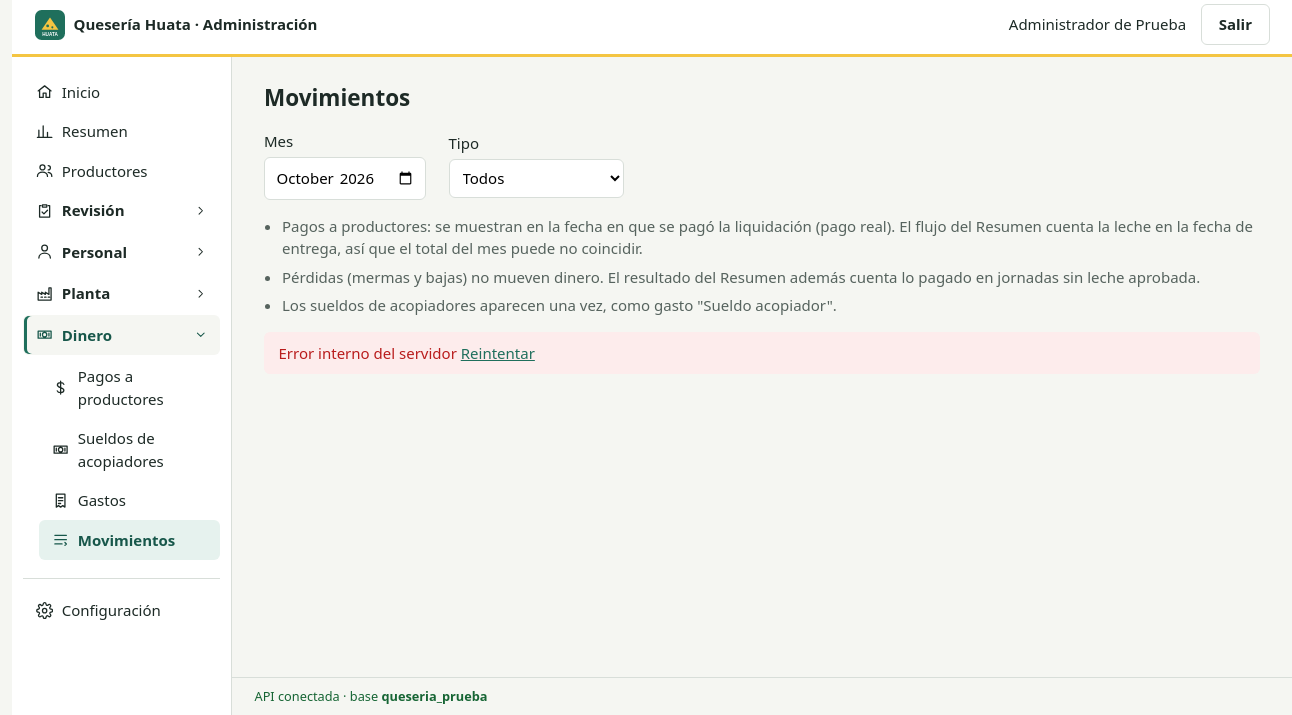
it: movimientos › si la carga falla, muestra el error y Reintentar vuelve a pedir
Check: the message shows "Error interno del servidor", box [278,343,457,363]
Click the button "Reintentar" at (498,353), box [461,342,535,364]
(page scrolled)
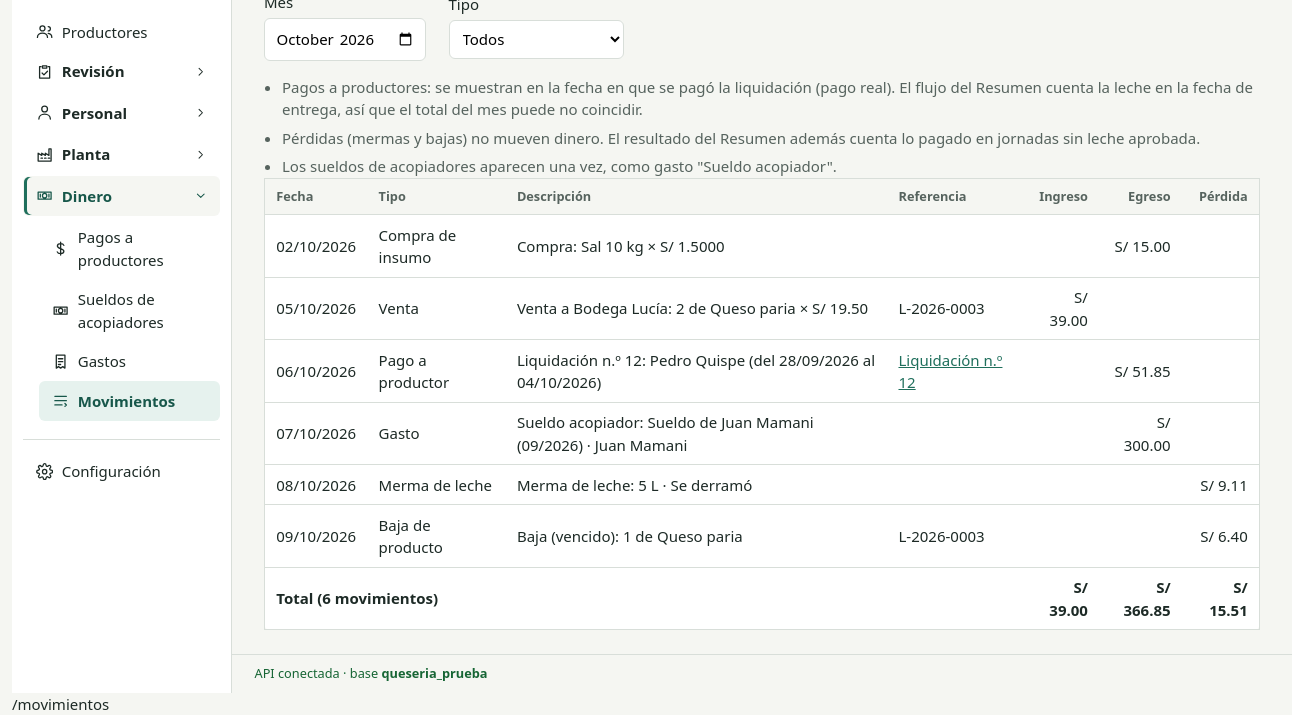
Check: the table is shown, box [264,178,1260,630]
